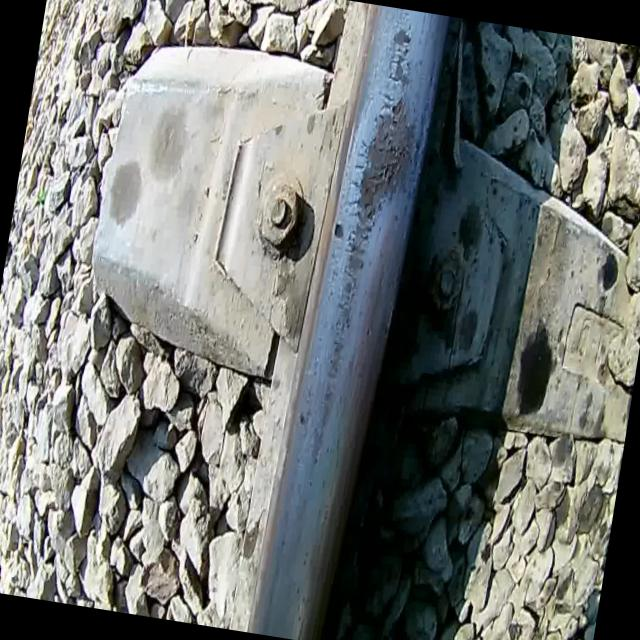Squats: (339, 86, 426, 283), (382, 22, 421, 91)
